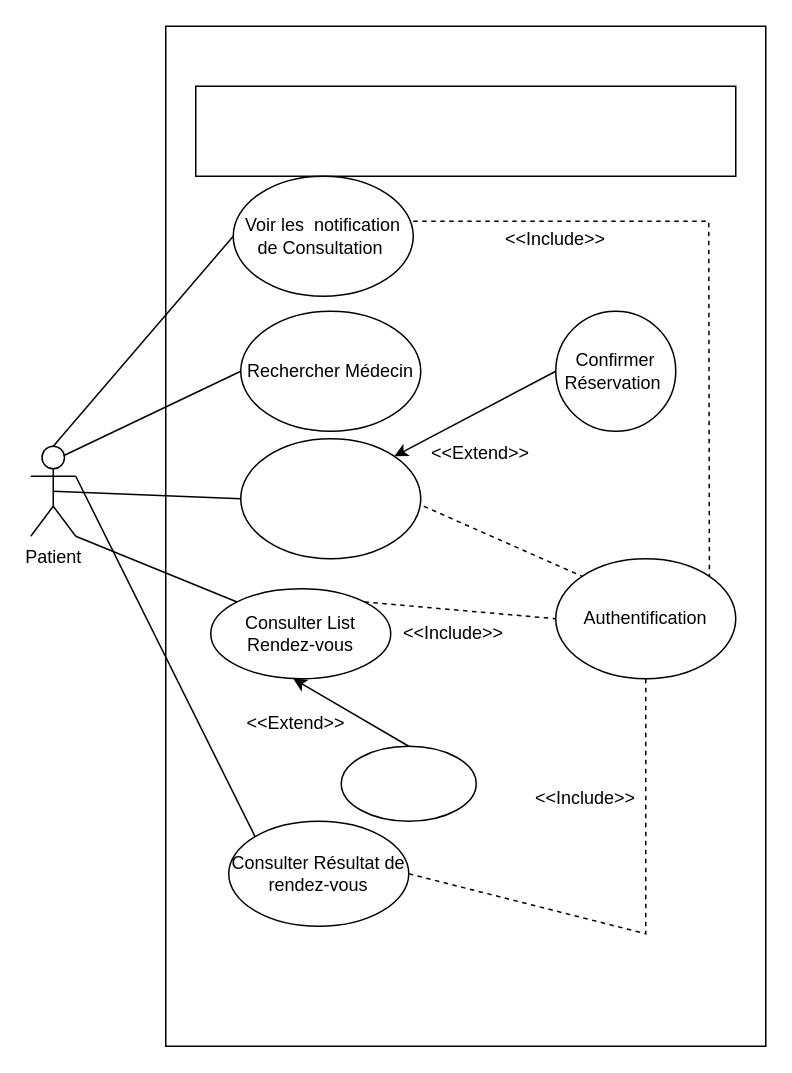
This 792x1073 diagram has some shape labels left out. The centre of each missing label's shape, as x and y in pixels:
"Annuler" goes at (x=408, y=783).
"Use Case <<Patient>>" goes at (x=465, y=130).
"Voir Détaille Reservation" goes at (x=330, y=498).
